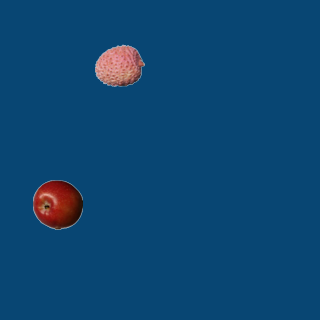Apple Braeburn: (32, 179, 82, 229)
Lychee: (94, 40, 144, 90)
